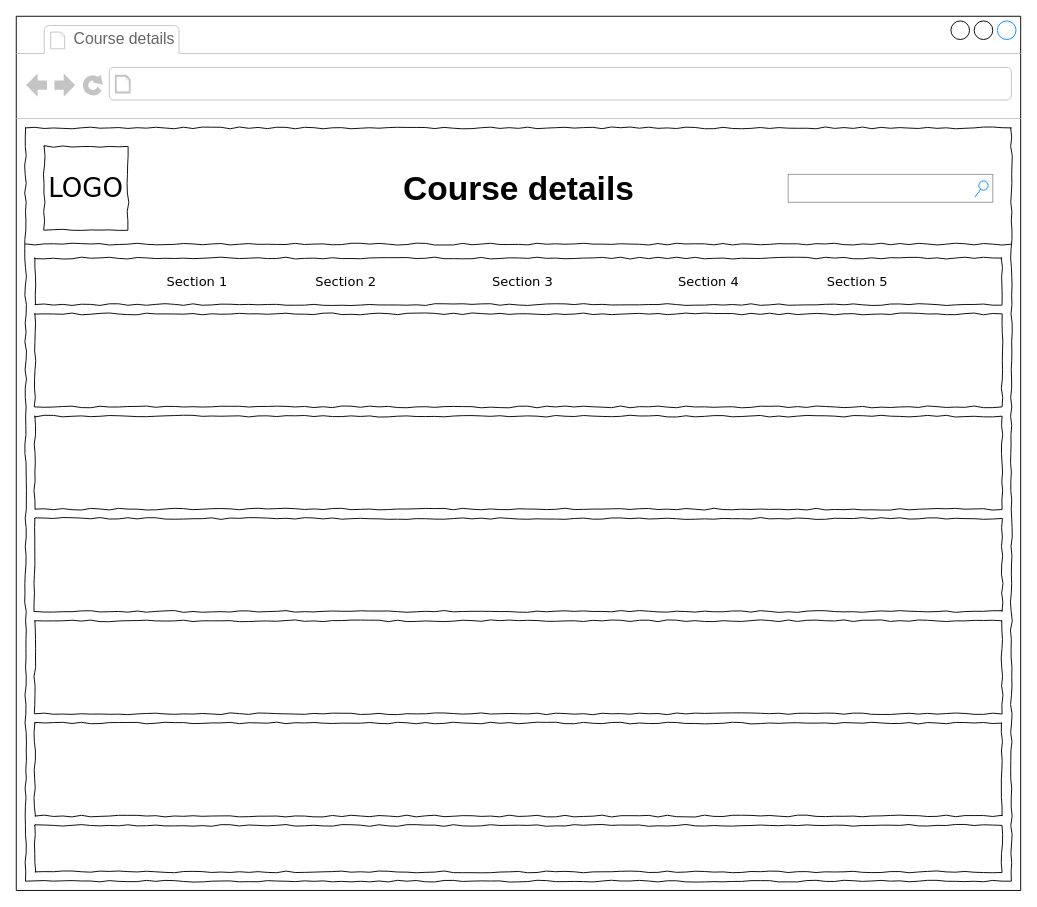
This 1037x907 diagram has some shape labels left out. The centre of each missing label's shape, as x and y in pixels:
"Footer" goes at (518,848).
"https://nikozyl.github.io/JXU/coursedetails" goes at (285,83).
